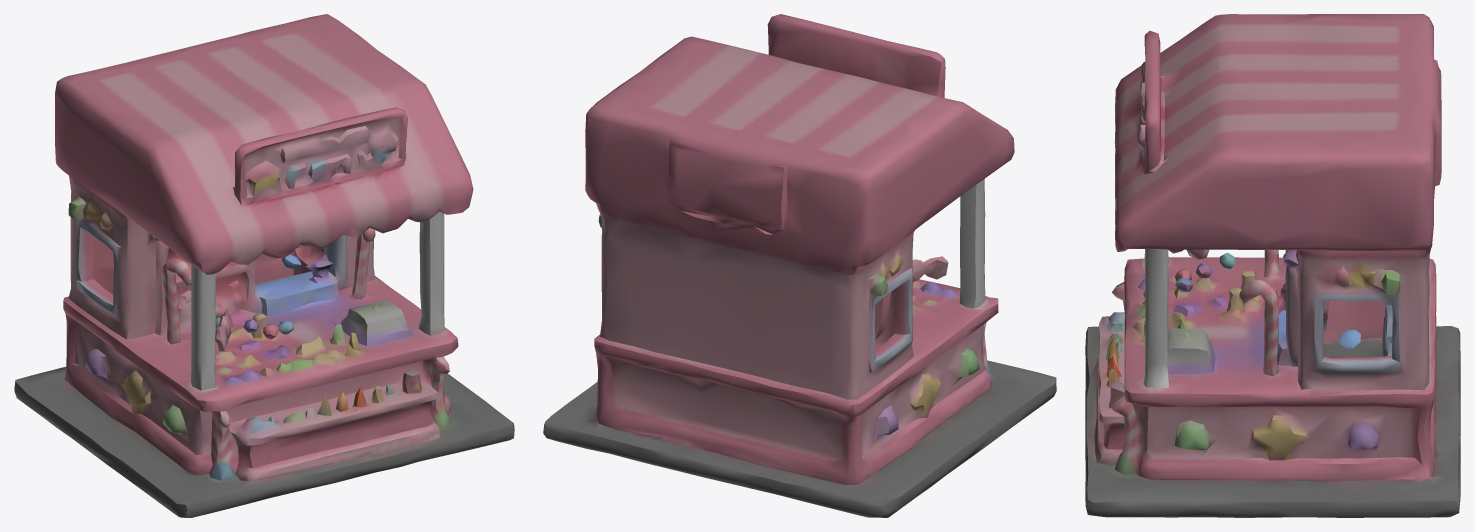
The model's file is CandyShopStand.glb.
3 views of the same model, side by side, from view 1: azimuth 30°, elevation 25°; view 2: azimuth 150°, elevation 25°; view 3: azimuth 270°, elevation 25° (orthographic). The views are drawn at different scales.
Parts seen in each view (by area): view 1: input; view 2: input; view 3: input.
Part boxes in pixels (x1=…): input: x1=14, y1=14, x2=514, y2=517; input: x1=543, y1=14, x2=1056, y2=517; input: x1=1085, y1=14, x2=1460, y2=517.
Size of the model in its own units: 9.57 by 9 by 8.52.
Materials: 1 (1 with a texture image).
